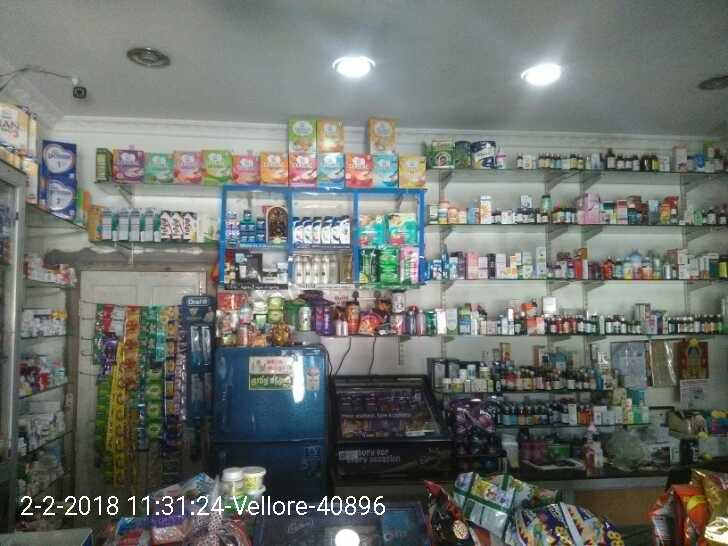oralcare: (185, 295, 212, 421)
vicks: (226, 209, 264, 244)
